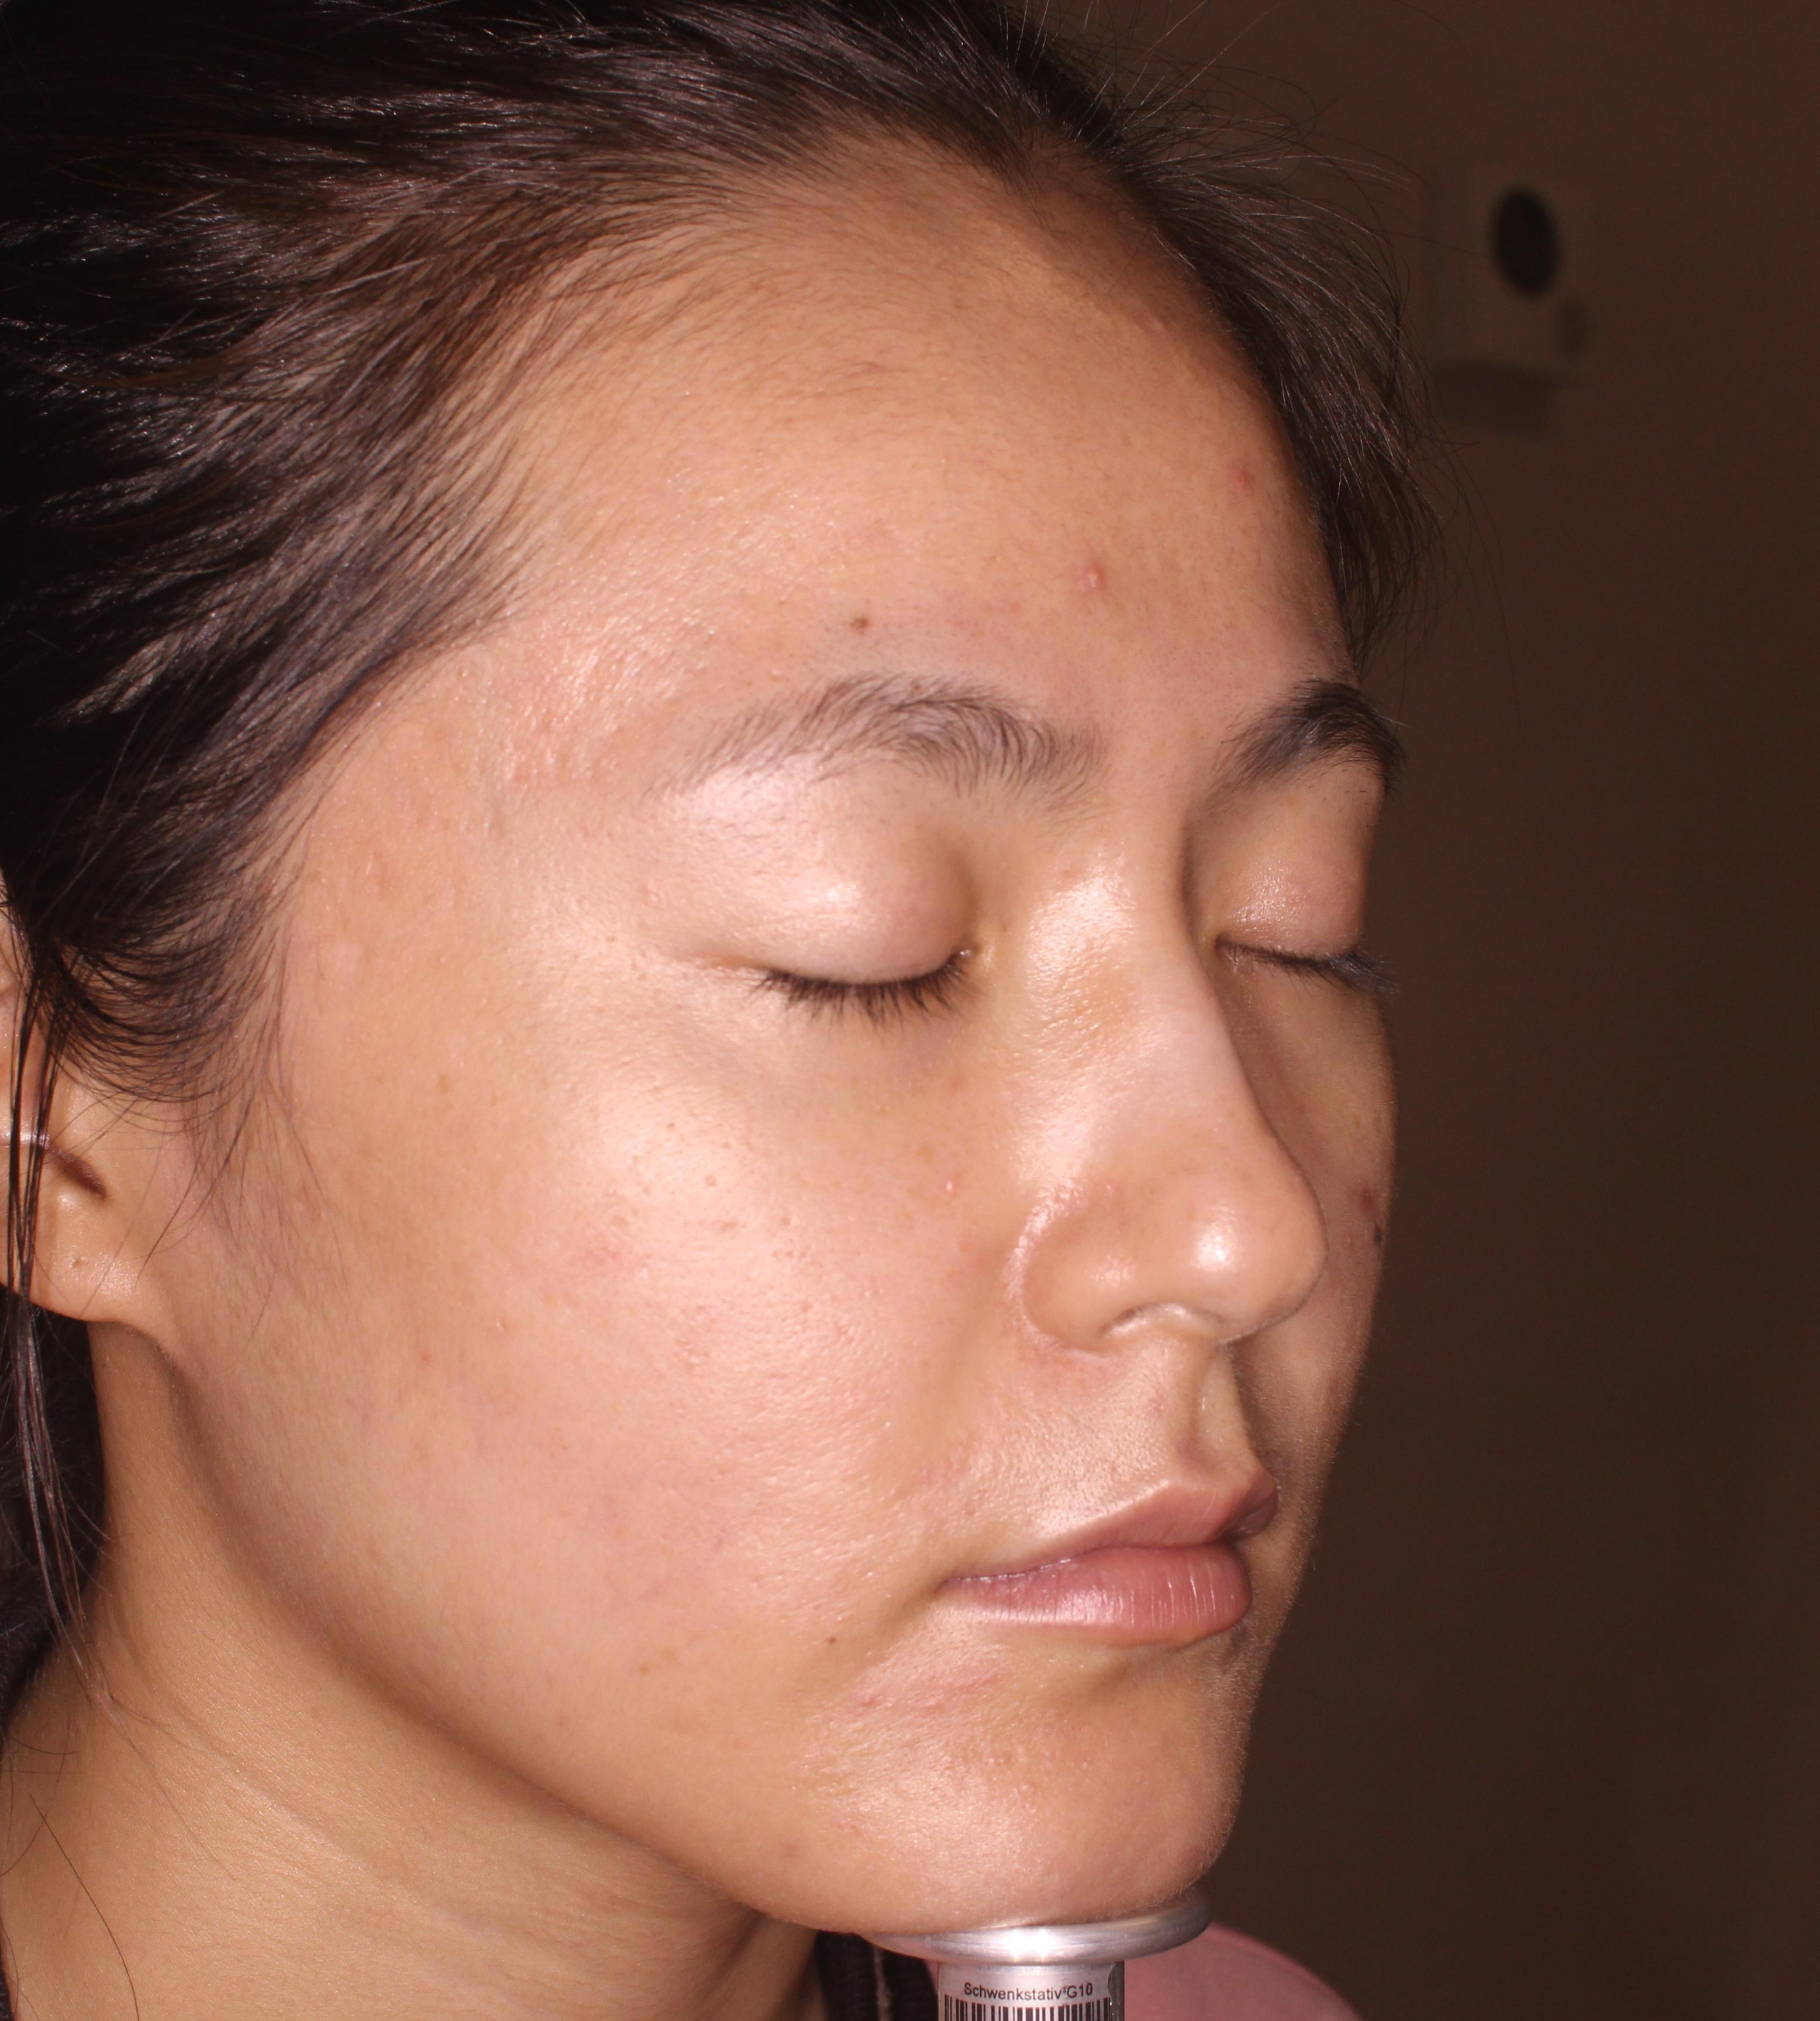fore: (1216, 446, 1319, 527), (1068, 544, 1126, 622), (1332, 1164, 1381, 1226)
